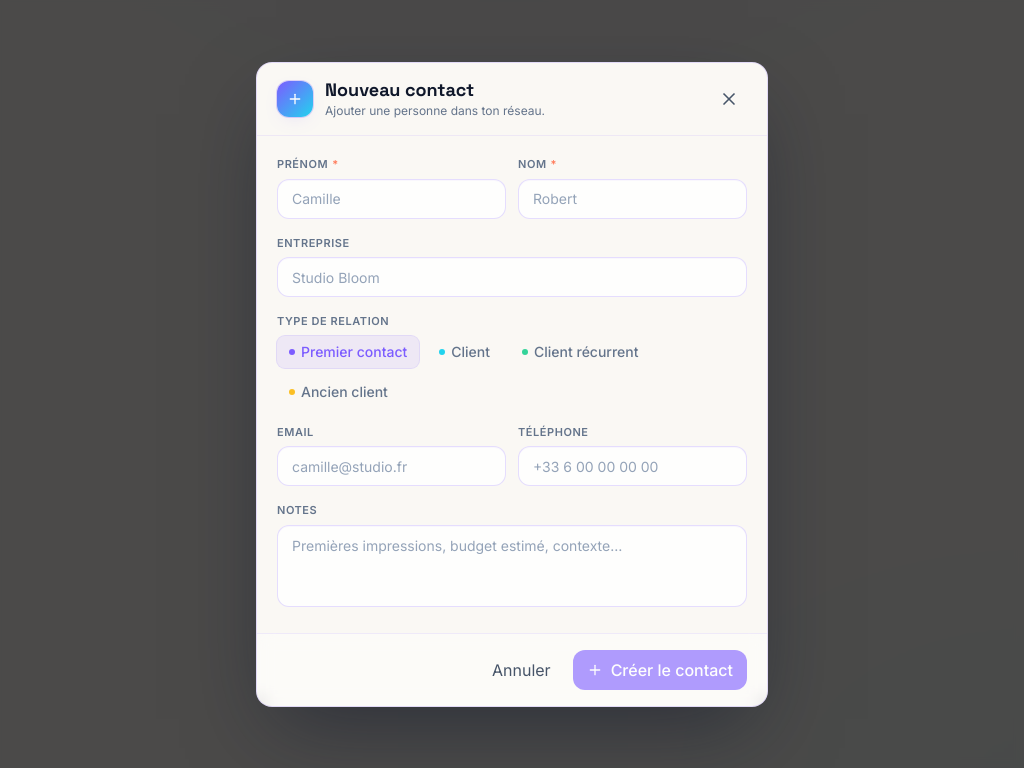
Test: ContactCreateModal — création async Backend 1C › succès asynchrone : submit appelle createContact + affiche "<Nom> ajouté"
Type "Jean" into the field labelled "Prénom *" at (392, 198), box x1=277 y1=178 x2=506 y2=218
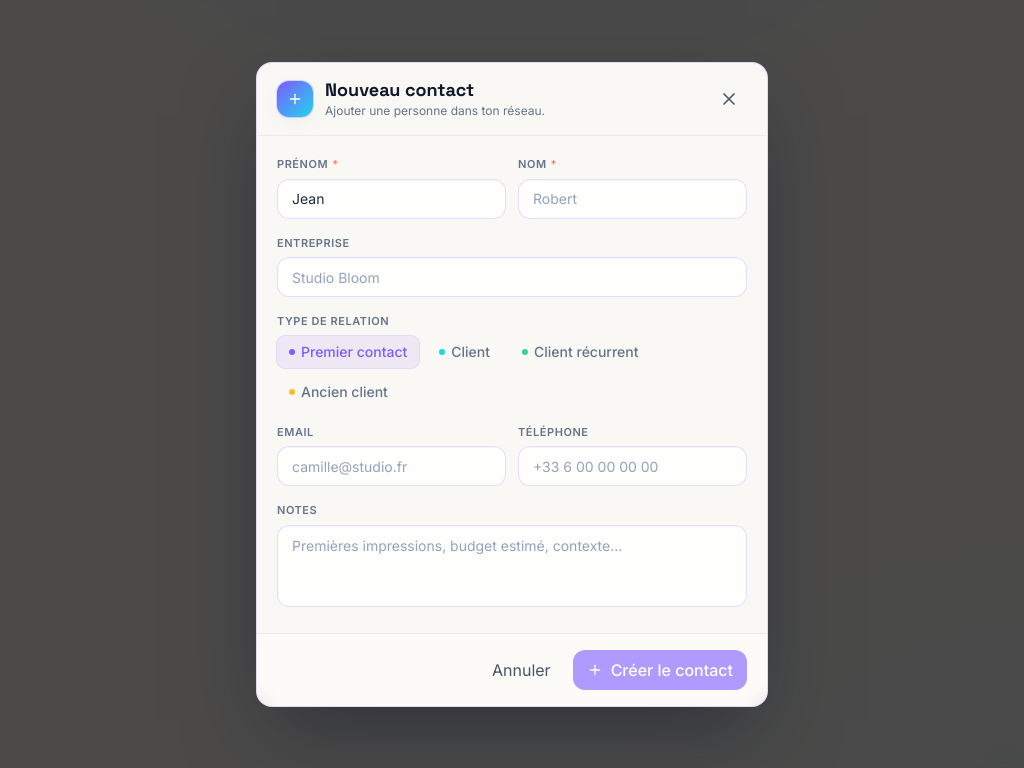
Type "Dupont" into the field labelled "Nom *" at (632, 198), box x1=518 y1=178 x2=747 y2=218
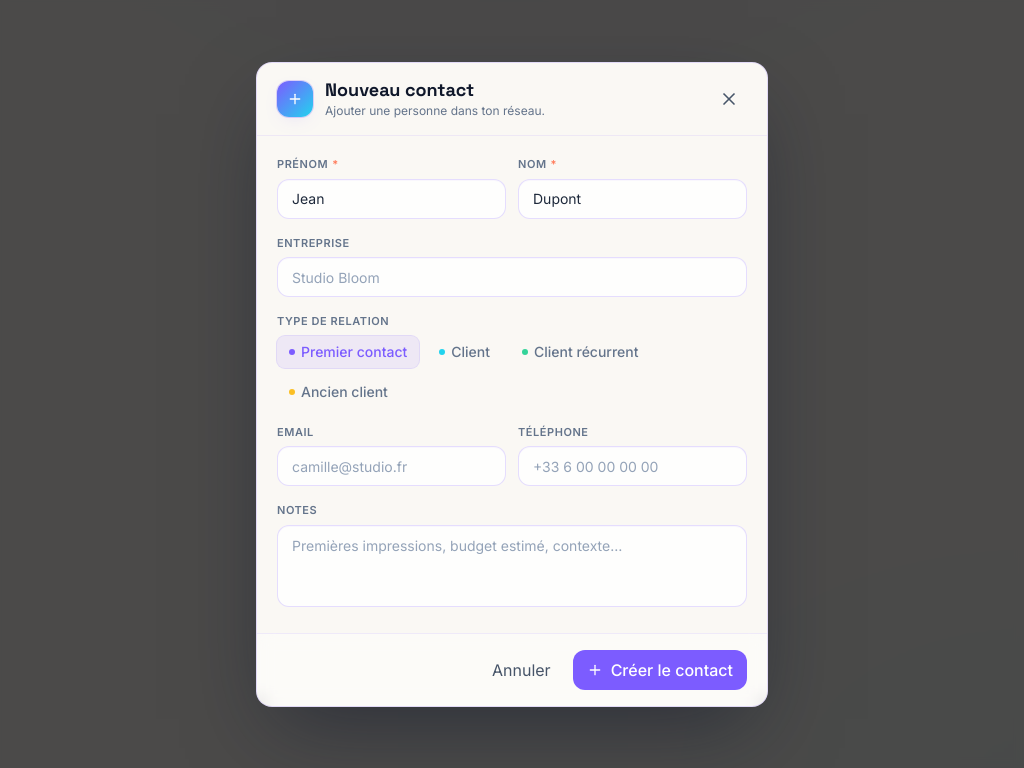
Submit the form, box x1=257 y1=136 x2=767 y2=706
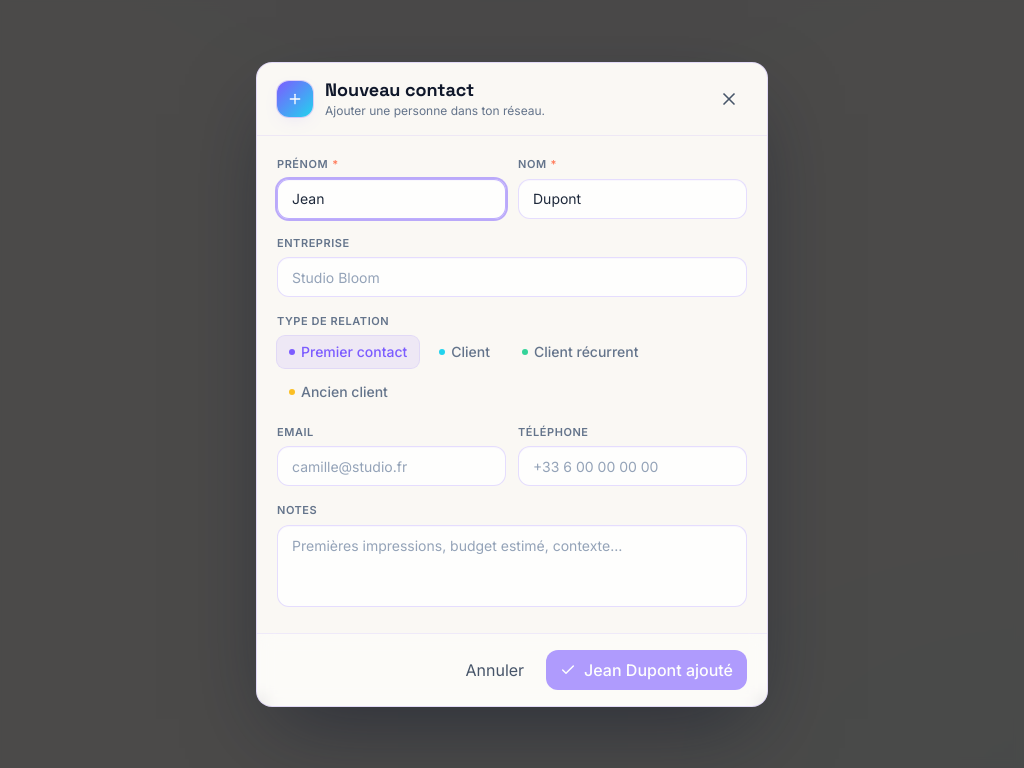
Check: the button "Jean Dupont ajouté" is shown, box x1=546 y1=650 x2=747 y2=690
